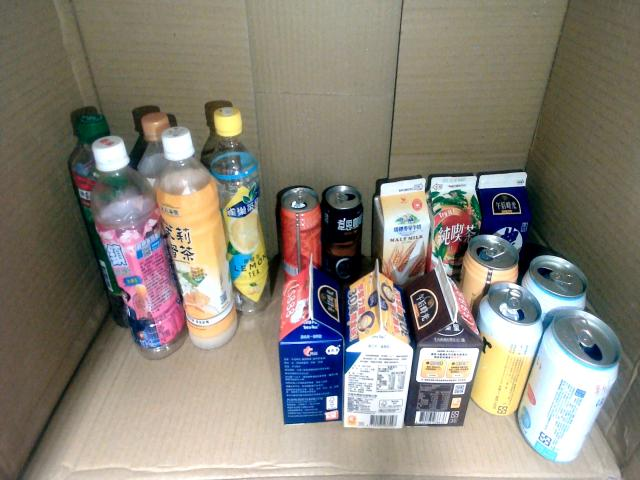Canned_drinks: (518, 309, 622, 464), (470, 281, 544, 419), (520, 255, 588, 325), (322, 184, 364, 283), (459, 234, 520, 302), (280, 187, 322, 283)
bottle: (90, 135, 188, 361), (154, 125, 238, 351), (69, 111, 133, 329), (208, 106, 272, 314), (136, 111, 172, 186)
